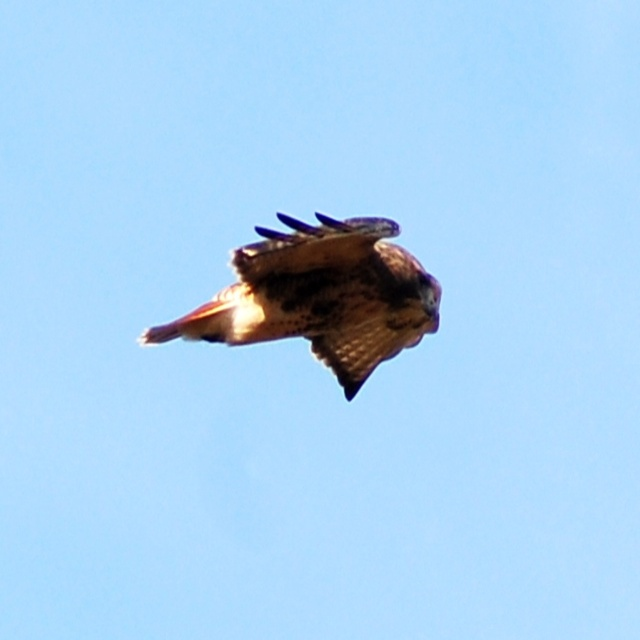Eagle: (136, 208, 447, 407)
